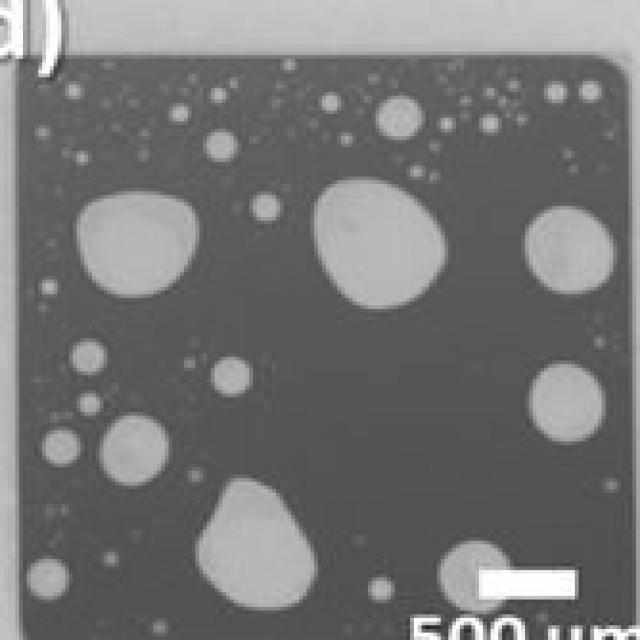component: (25, 59, 636, 638)
void: (314, 180, 448, 311), (195, 478, 318, 612), (79, 192, 204, 297), (525, 206, 617, 298), (533, 364, 609, 445), (439, 541, 514, 614), (100, 416, 172, 489), (376, 96, 425, 142), (27, 559, 73, 601), (211, 357, 253, 399), (44, 430, 84, 469), (69, 338, 107, 379), (207, 129, 241, 166), (253, 195, 284, 223), (368, 577, 399, 605), (61, 147, 92, 169), (77, 394, 103, 419), (548, 81, 571, 107), (169, 103, 192, 125), (322, 92, 345, 114), (583, 81, 606, 103), (483, 114, 502, 136), (38, 280, 61, 296), (211, 88, 230, 107), (606, 478, 625, 497), (188, 467, 207, 486), (34, 125, 54, 143), (65, 85, 84, 103), (441, 118, 460, 136), (103, 552, 123, 568), (153, 622, 172, 638), (138, 147, 153, 166), (353, 537, 372, 552), (77, 151, 92, 169), (410, 166, 429, 180), (517, 114, 533, 129), (563, 147, 579, 162), (341, 132, 356, 147), (429, 140, 445, 154), (184, 357, 199, 371), (130, 530, 146, 543), (284, 59, 299, 72), (429, 173, 445, 184), (598, 335, 609, 351), (510, 81, 525, 92), (138, 129, 153, 140), (230, 77, 241, 92), (368, 74, 383, 85), (249, 136, 264, 147), (571, 166, 583, 177), (46, 508, 57, 520), (464, 96, 475, 107), (487, 88, 498, 99), (188, 74, 199, 85), (61, 508, 73, 517), (502, 96, 510, 109)
